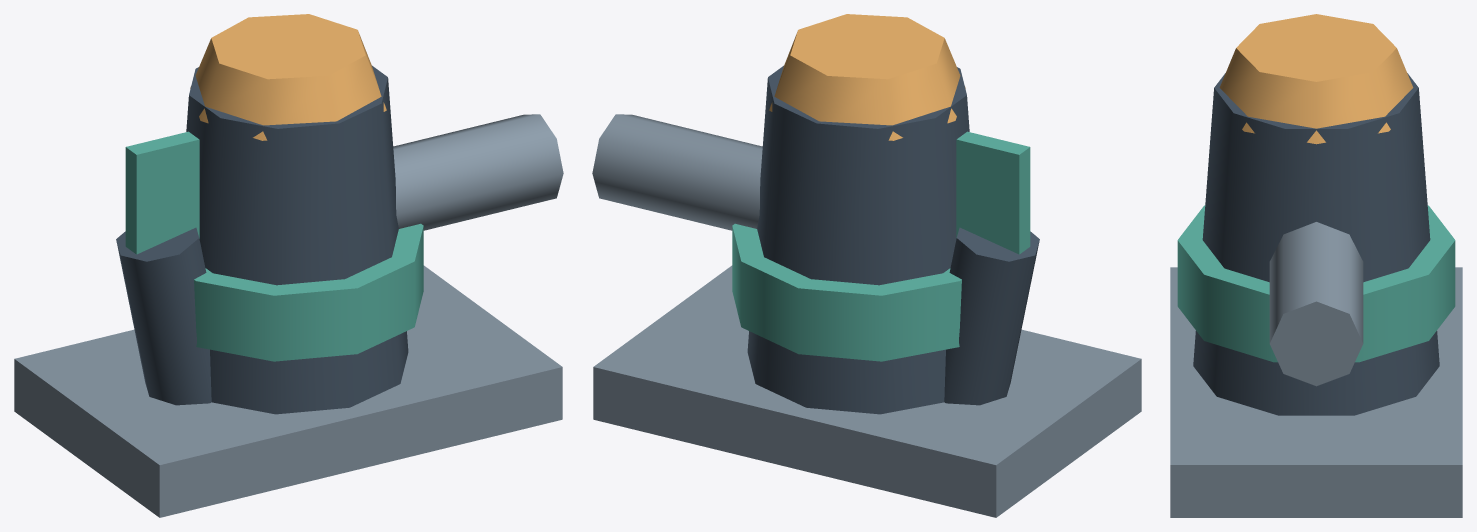
Rendered from device-3d.glb.
3 views of the same model, side by side, from view 1: azimuth 30°, elevation 25°; view 2: azimuth 150°, elevation 25°; view 3: azimuth 270°, elevation 25° (orthographic).
Bounding box in the file's own units: 3.6 × 2.8 × 2.
